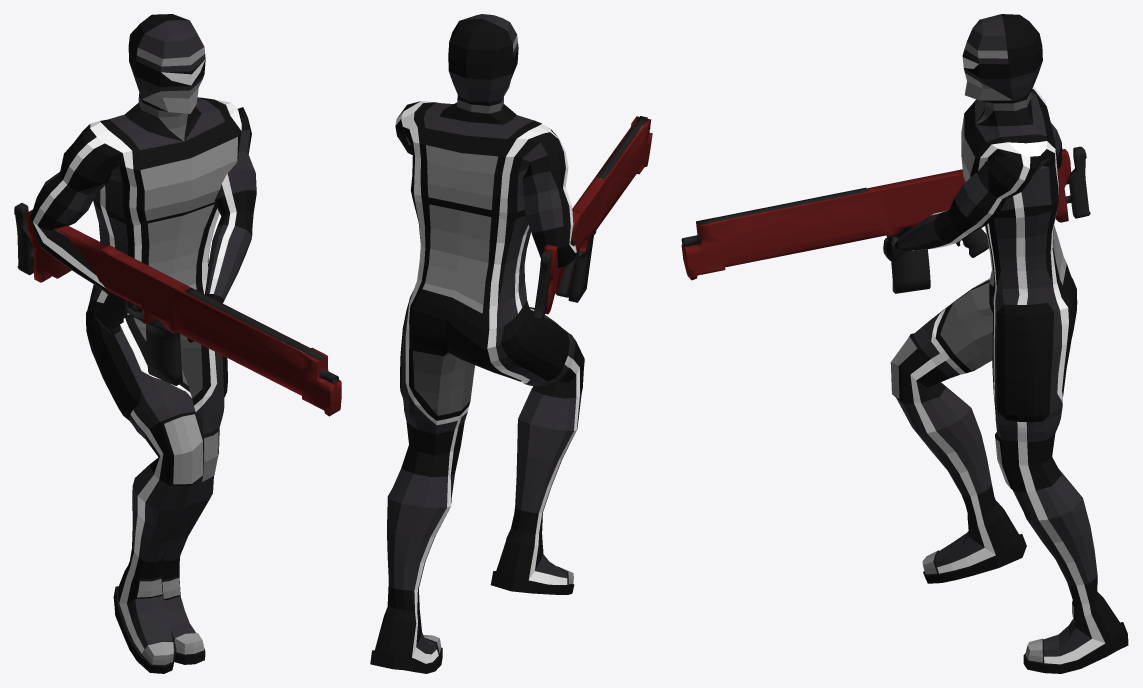
File: ASR2.obj
The picture shows the model from 3 angles, left to right: view 1: azimuth 30°, elevation 25°; view 2: azimuth 150°, elevation 25°; view 3: azimuth 270°, elevation 25°; orthographic projection. The views are drawn at different scales.
Parts seen in each view (by area): view 1: metarig_object_metarig_mesh, metarig_object.001_metarig_mesh.001; view 2: metarig_object_metarig_mesh, metarig_object.001_metarig_mesh.001; view 3: metarig_object_metarig_mesh, metarig_object.001_metarig_mesh.001.
Boxes of the visible parts, <box> form: metarig_object_metarig_mesh: <box>30,14,256,673</box>; metarig_object.001_metarig_mesh.001: <box>14,203,341,416</box>; metarig_object_metarig_mesh: <box>370,14,584,673</box>; metarig_object.001_metarig_mesh.001: <box>533,116,652,320</box>; metarig_object_metarig_mesh: <box>883,14,1128,673</box>; metarig_object.001_metarig_mesh.001: <box>681,146,1090,293</box>.
Size of the model in its own units: 0.5774 by 1.88 by 1.21.
2 materials, 2 textured.
